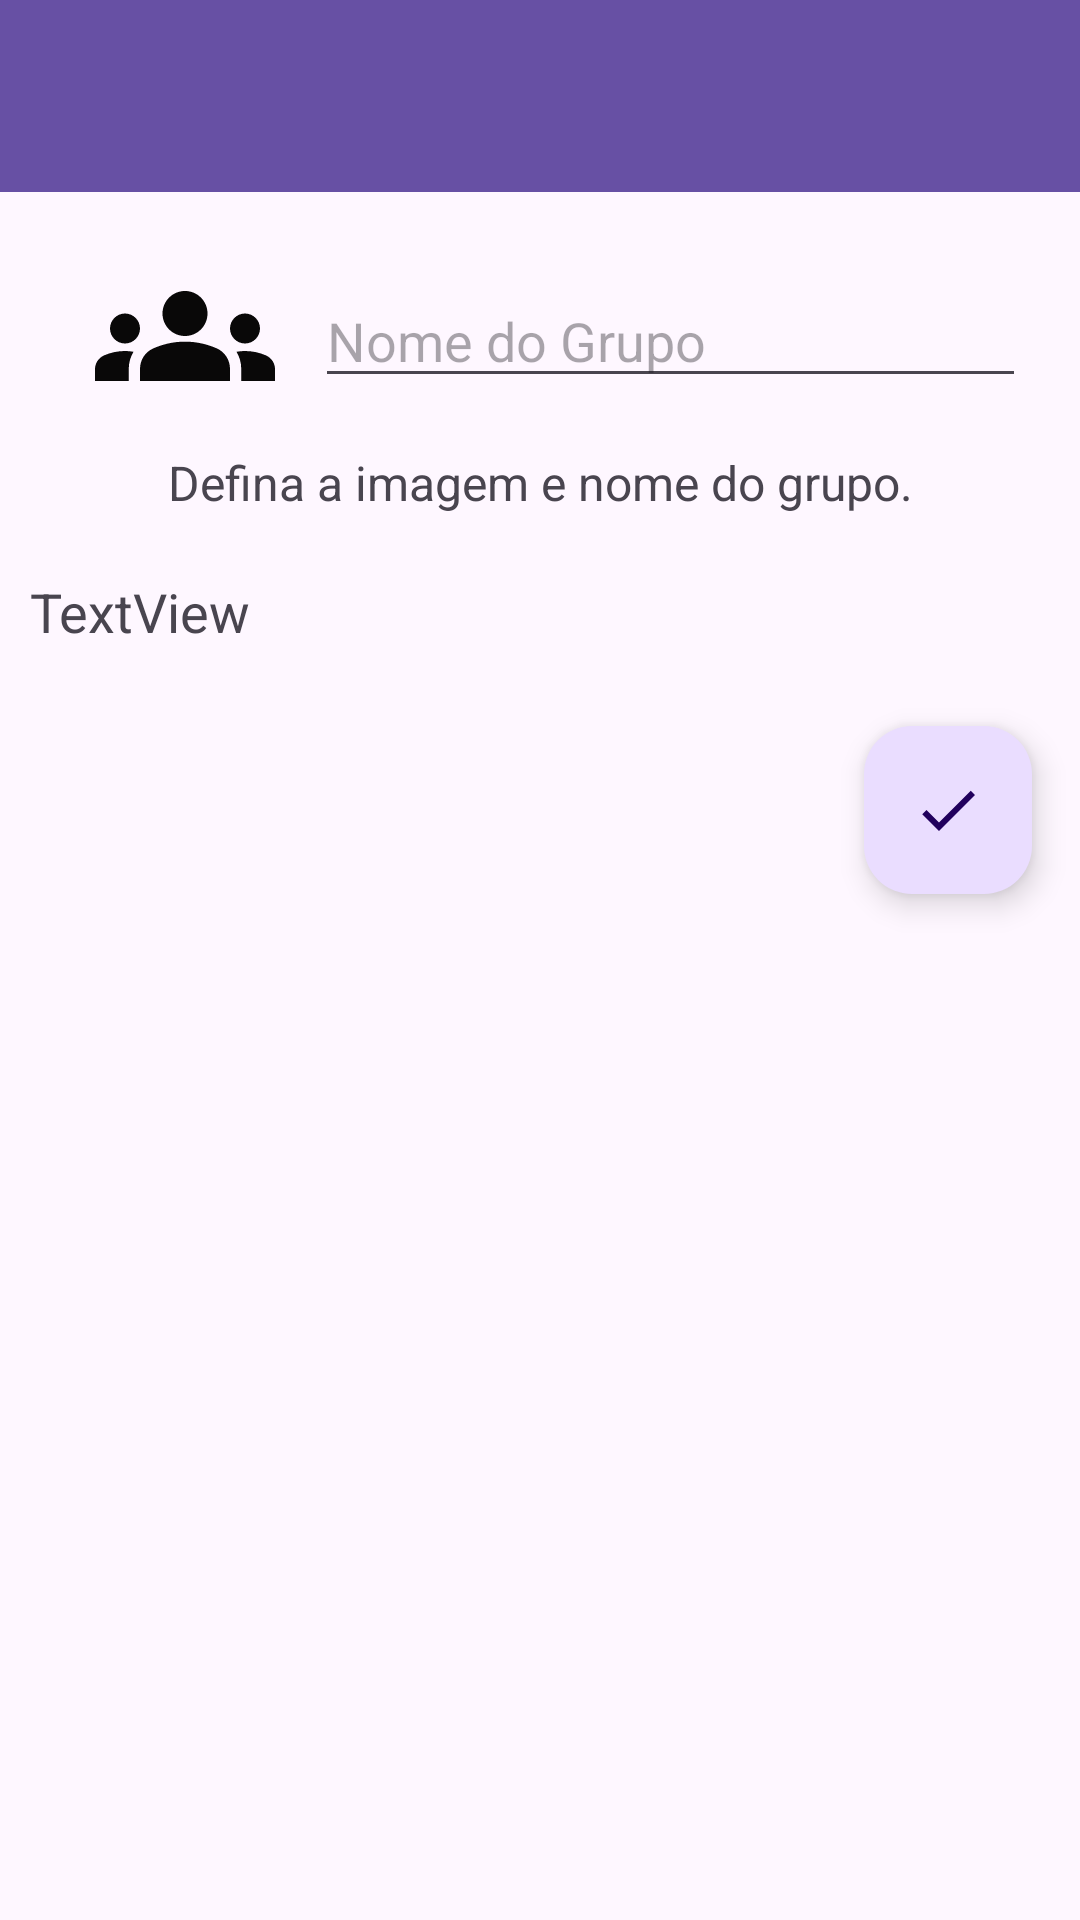

Screen size 1080 × 1920. Icon name, then its center in pixels as [x,y]:
Criar: [948,810]
groups: [185,336]
